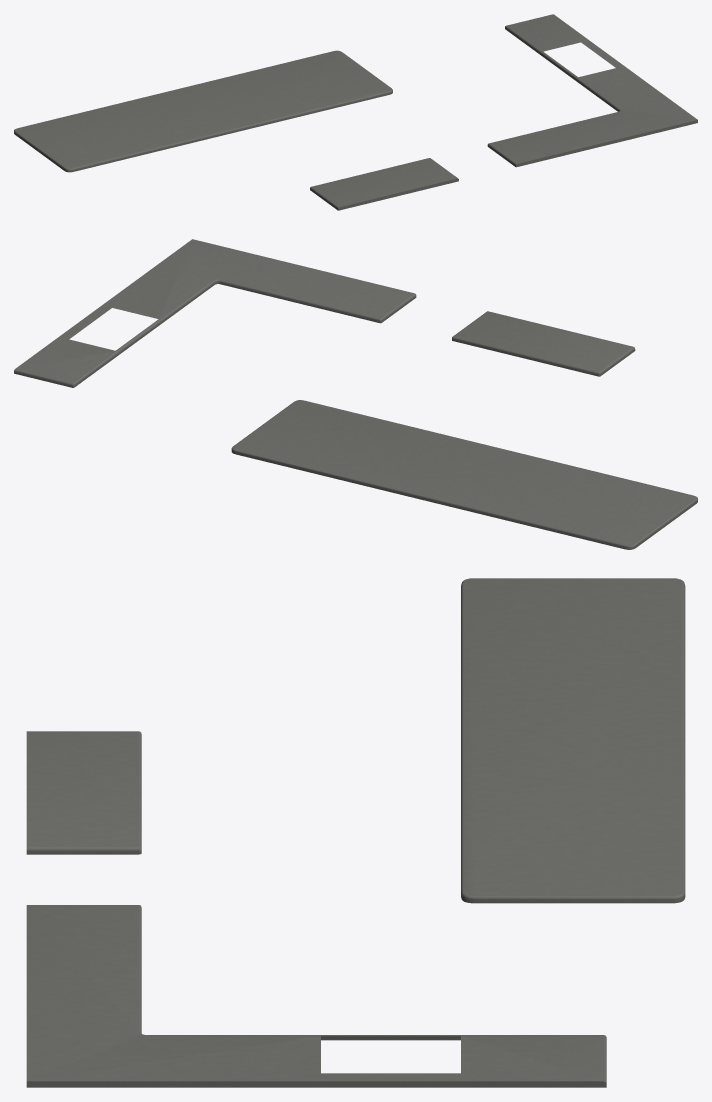
Rendered from Countertops_QuartzExpoGray.glb.
The picture shows the model from 3 angles, top to bottom: view 1: azimuth 30°, elevation 25°; view 2: azimuth 150°, elevation 25°; view 3: azimuth 270°, elevation 25°; orthographic projection. The views are drawn at different scales.
Parts seen in each view (by area): view 1: Countertops_Quartz Expo Gray; view 2: Countertops_Quartz Expo Gray; view 3: Countertops_Quartz Expo Gray.
Part boxes in pixels (<box>): Countertops_Quartz Expo Gray: <box>14,14,697,210</box>; Countertops_Quartz Expo Gray: <box>14,239,697,549</box>; Countertops_Quartz Expo Gray: <box>26,578,685,1087</box>.
Size of the model in its own units: 8.6 by 0.09 by 4.7.
Materials: 1 (1 with a texture image).
